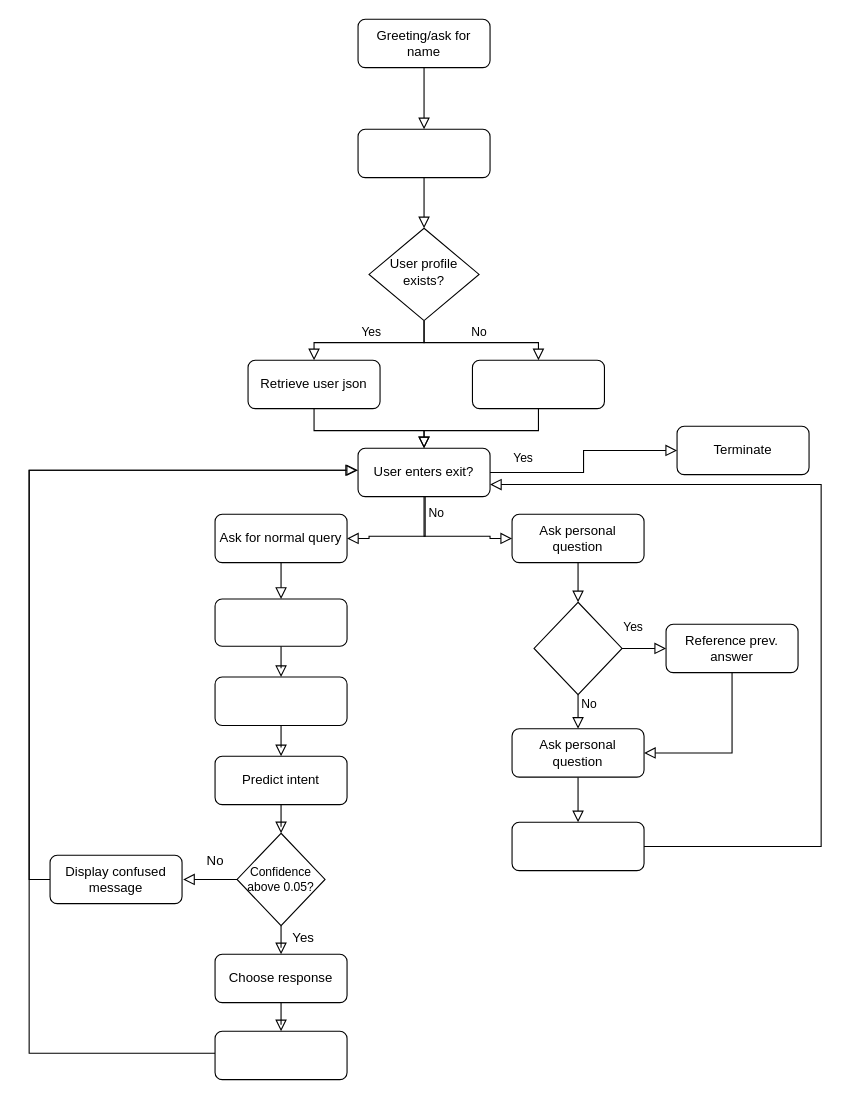
Image size: 851x1099. Some labels were removed from this diagram. The shapes that lost their labels are listed below. From the top down, each one's centre as x and y in pixels, then its label:
the point at 423,153: User enters name
the point at 537,384: Create user json
the point at 280,622: User enters query
the point at 577,648: User has previous answer?
the point at 280,700: Vectorize user input
the point at 577,846: Save answer to user file
the point at 280,1055: Output answer to user
